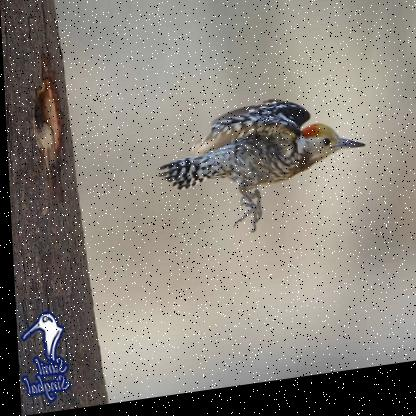Burung: (154, 94, 366, 248)
